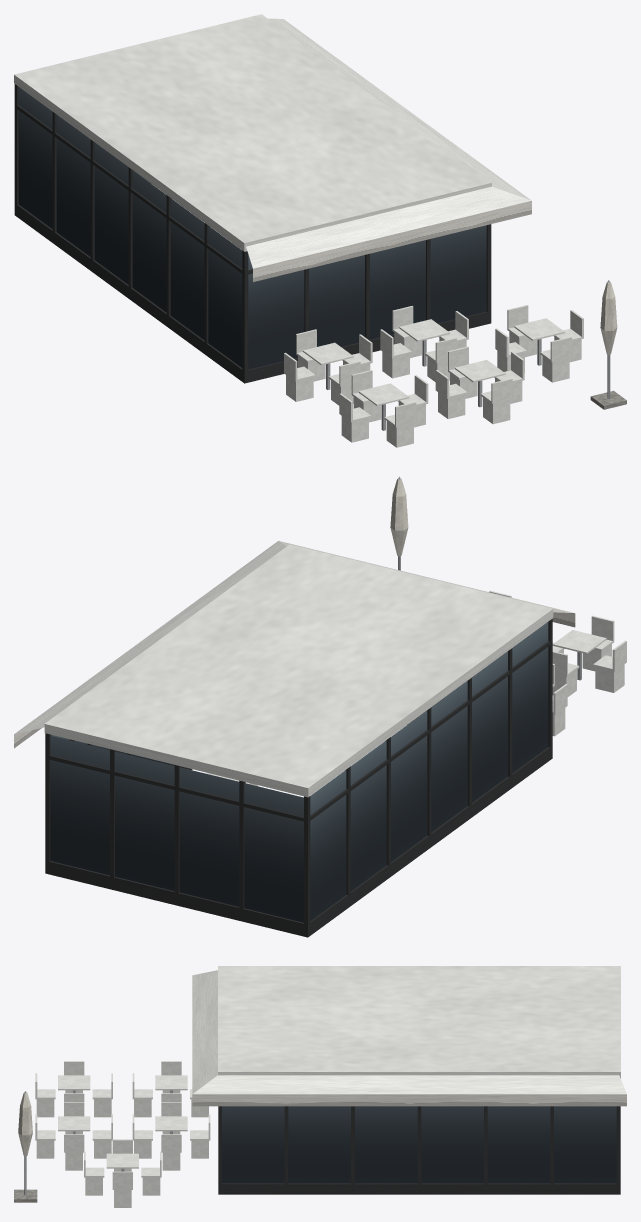
The model's file is SM_Molo_DehorsVetrato_LOD1.fbx.
The picture shows the model from 3 angles, top to bottom: view 1: azimuth 30°, elevation 25°; view 2: azimuth 150°, elevation 25°; view 3: azimuth 270°, elevation 25°; orthographic projection. The views are drawn at different scales.
Parts seen in each view (by area): view 1: SM_Molo_DehorsVetrato_LOD1; view 2: SM_Molo_DehorsVetrato_LOD1; view 3: SM_Molo_DehorsVetrato_LOD1.
Boxes of the visible parts, bbox=[...] form: SM_Molo_DehorsVetrato_LOD1: bbox=[14, 14, 626, 447]; SM_Molo_DehorsVetrato_LOD1: bbox=[14, 476, 626, 937]; SM_Molo_DehorsVetrato_LOD1: bbox=[14, 966, 626, 1207].
Bounding box in the file's own units: 622 × 1323 × 293.
1 material, 1 textured.
